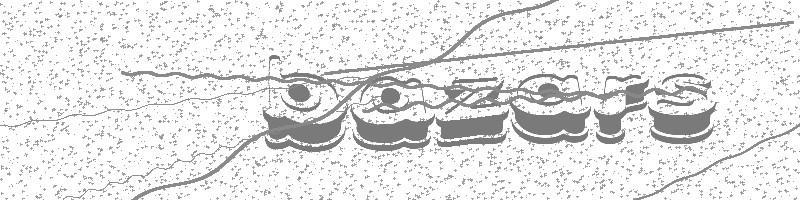a: (350, 76, 436, 152), (511, 72, 591, 144)
b: (261, 53, 346, 152)
r: (593, 74, 649, 145)
s: (648, 72, 718, 145)
z: (435, 76, 511, 147)
